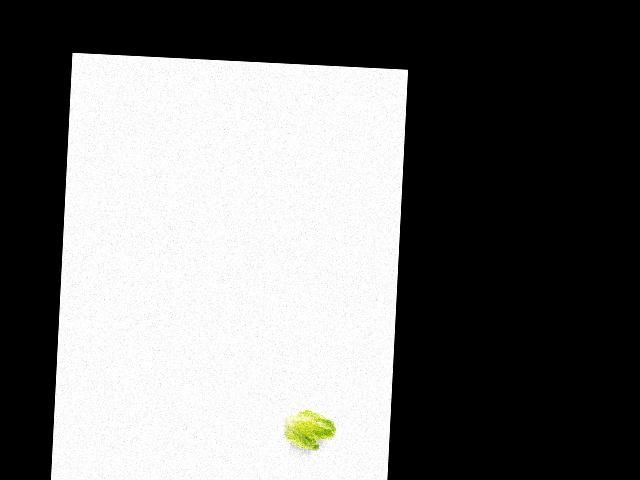lettuce: (277, 406, 340, 452)
